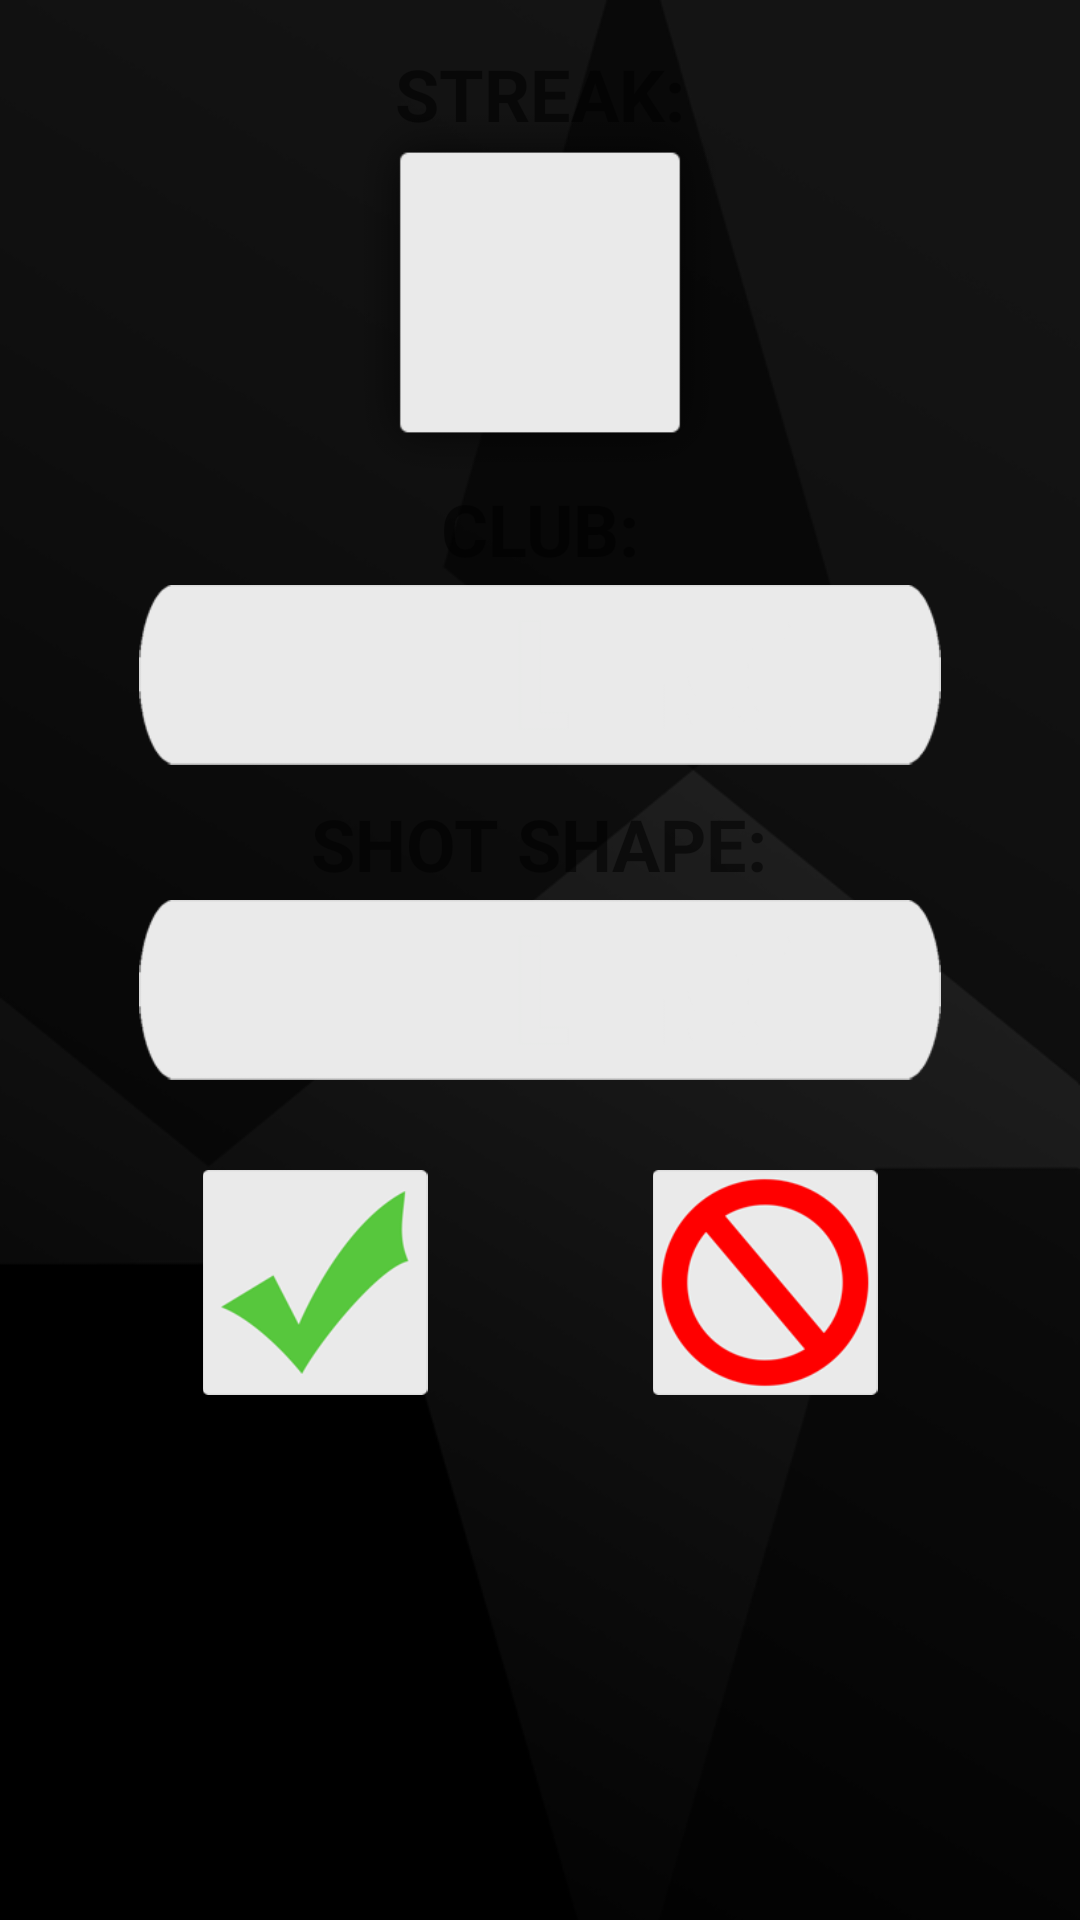

Locate icon controls on the screen. Image size 1080x1920, boxes as (x1, y1, x2, y2).
cancel: (653, 1170, 878, 1395)
check: (203, 1170, 428, 1395)
